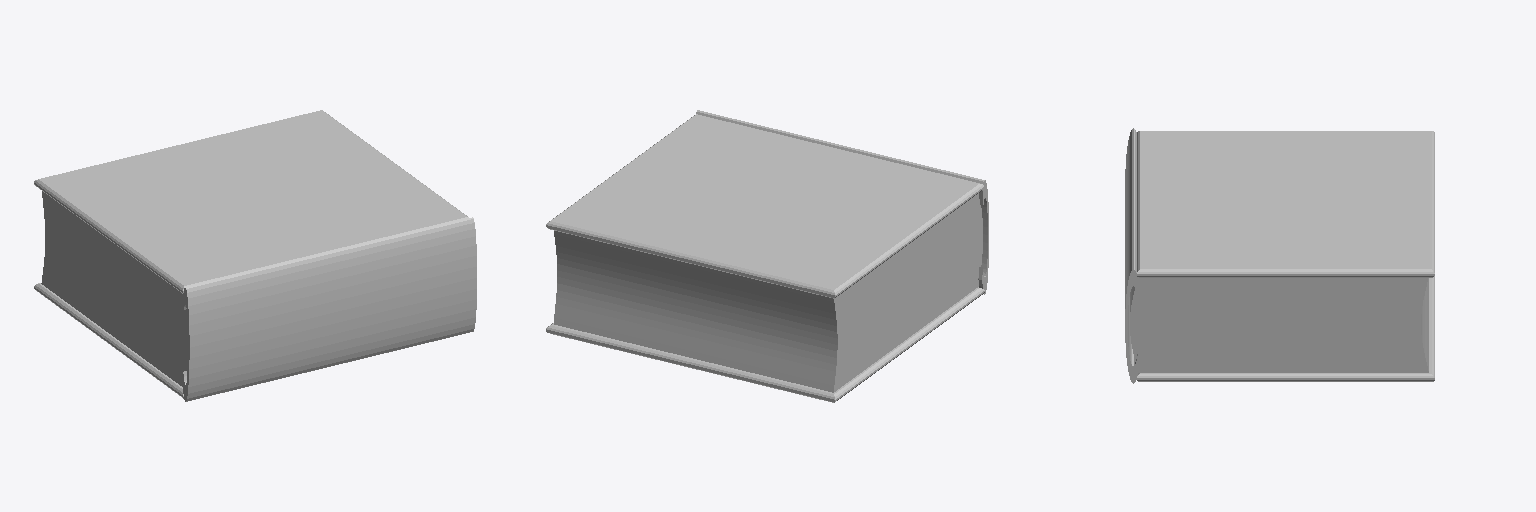
File: bible.obj
The picture shows the model from 3 angles: view 1: azimuth 30°, elevation 25°; view 2: azimuth 150°, elevation 25°; view 3: azimuth 270°, elevation 25°; orthographic projection.
Parts seen in each view (by area): view 1: Cube.001, Cylindre, Cube.002; view 2: Cube.001, Cube.002, Cylindre; view 3: Cube.001, Cube.002, Cylindre.
Boxes of the visible parts, box(x1,y1,x2,y2) form: Cube.001: box(34, 110, 468, 398); Cylindre: box(182, 217, 476, 401); Cube.002: box(41, 191, 187, 386); Cube.001: box(546, 114, 984, 402); Cube.002: box(554, 193, 982, 392); Cylindre: box(696, 110, 988, 294); Cube.001: box(1136, 131, 1434, 381); Cube.002: box(1130, 277, 1428, 372); Cylindre: box(1125, 128, 1138, 383).
Bounding box in the file's own units: 0.2067 × 0.0782 × 0.1914.